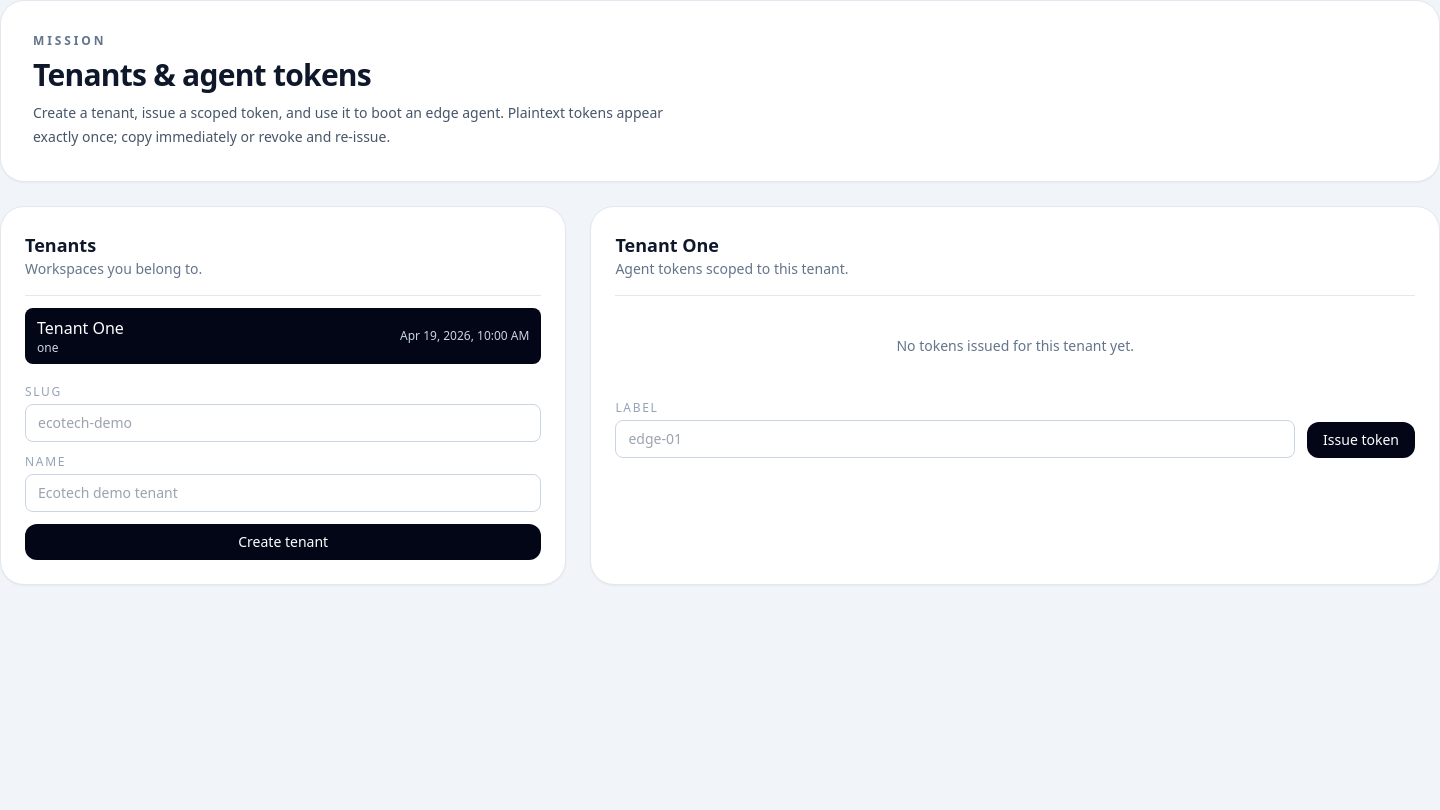
TenantsPage › reports token issuance errors
Type "edge-1" into the field with placeholder "edge-01" at (955, 439), box left=615, top=420, right=1295, bottom=458
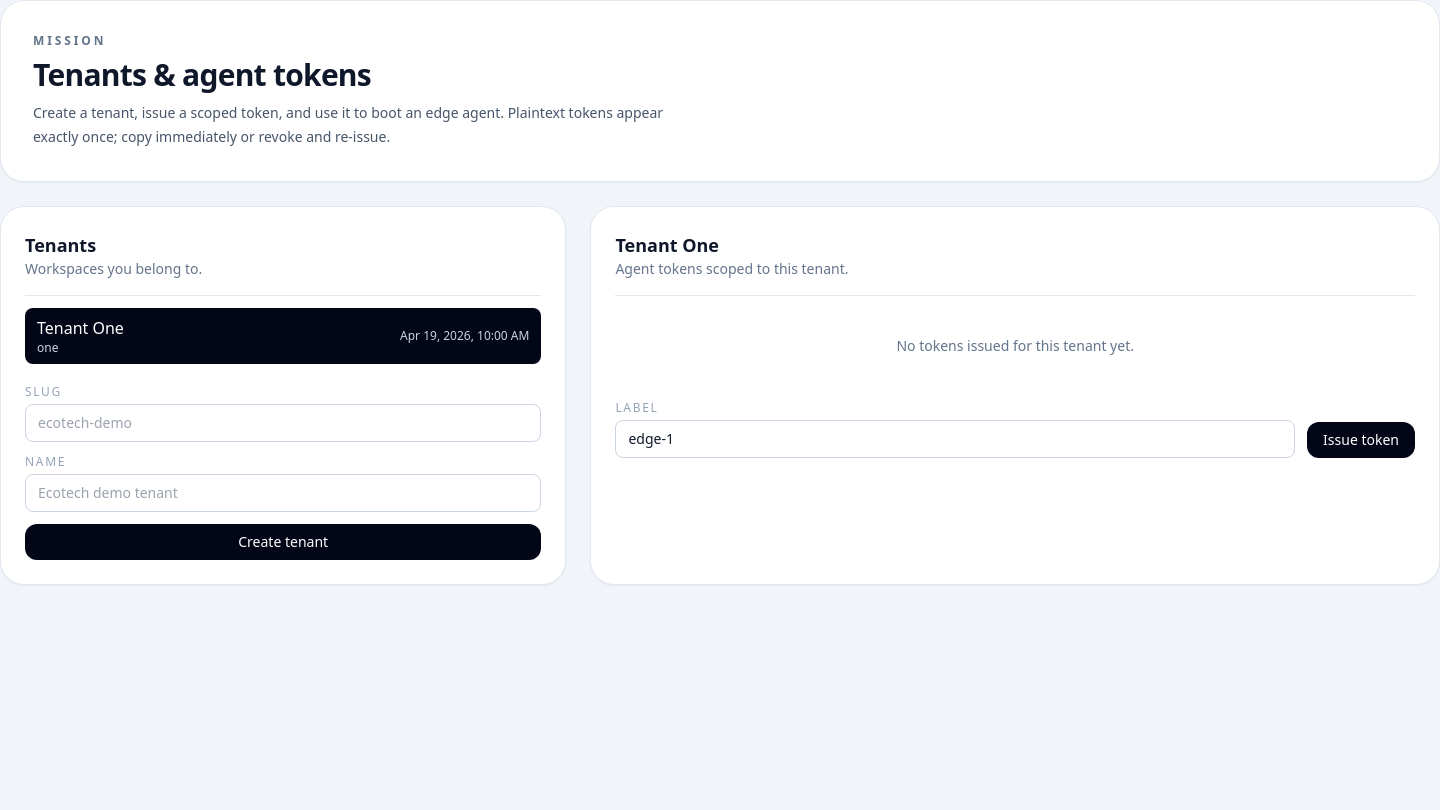
Click the button "Issue token" at (1361, 440), box left=1307, top=422, right=1415, bottom=458
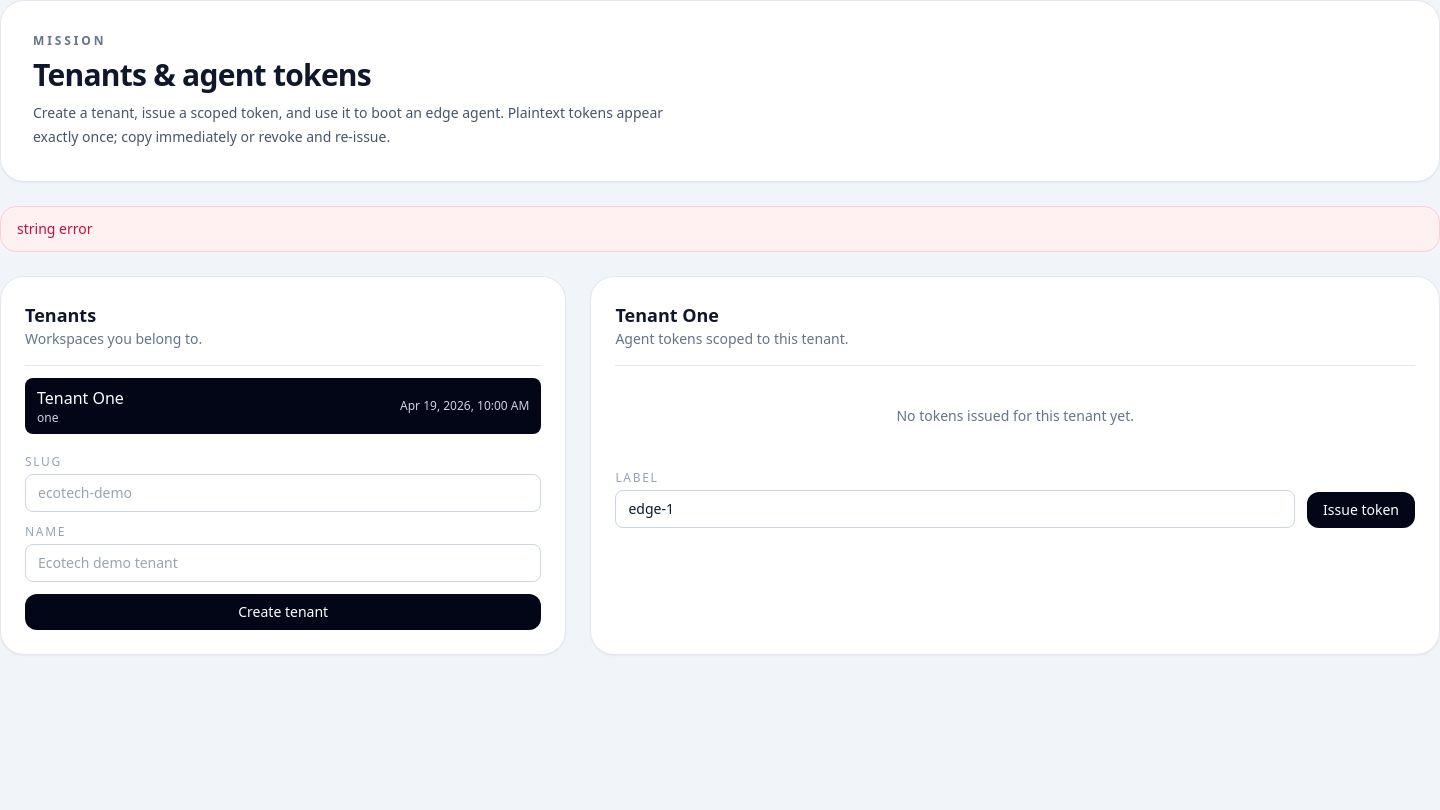
Expected: the text "string error" is shown, left=0, top=206, right=1439, bottom=252
